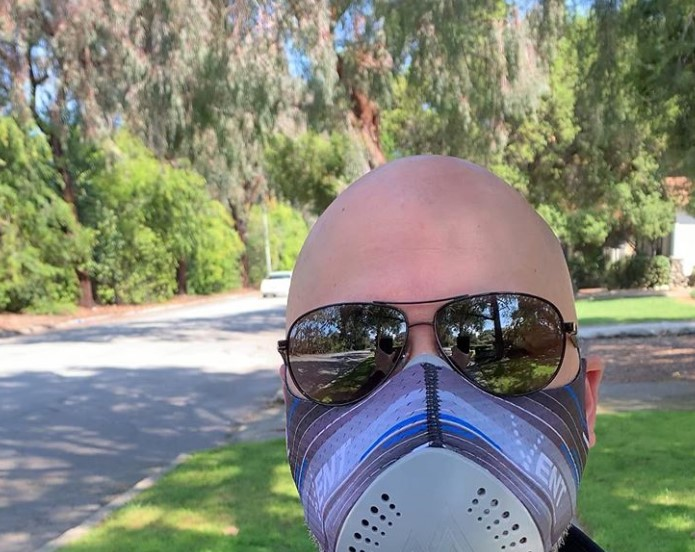face_with_mask: (271, 154, 609, 550)
